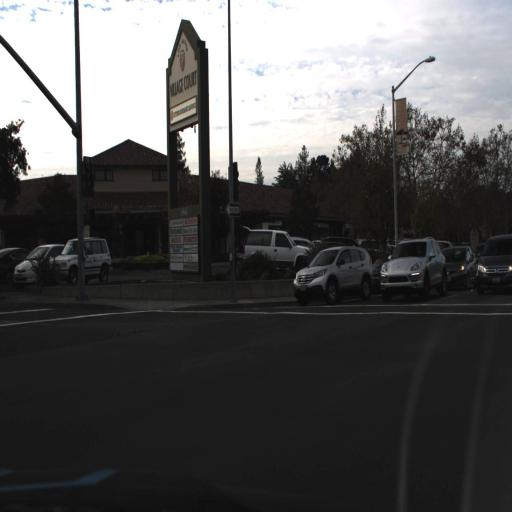car: (287, 237, 375, 305), (378, 237, 446, 303), (53, 235, 114, 294), (244, 224, 310, 264), (14, 236, 63, 288), (474, 233, 512, 293), (440, 244, 474, 291), (1, 239, 28, 285)
